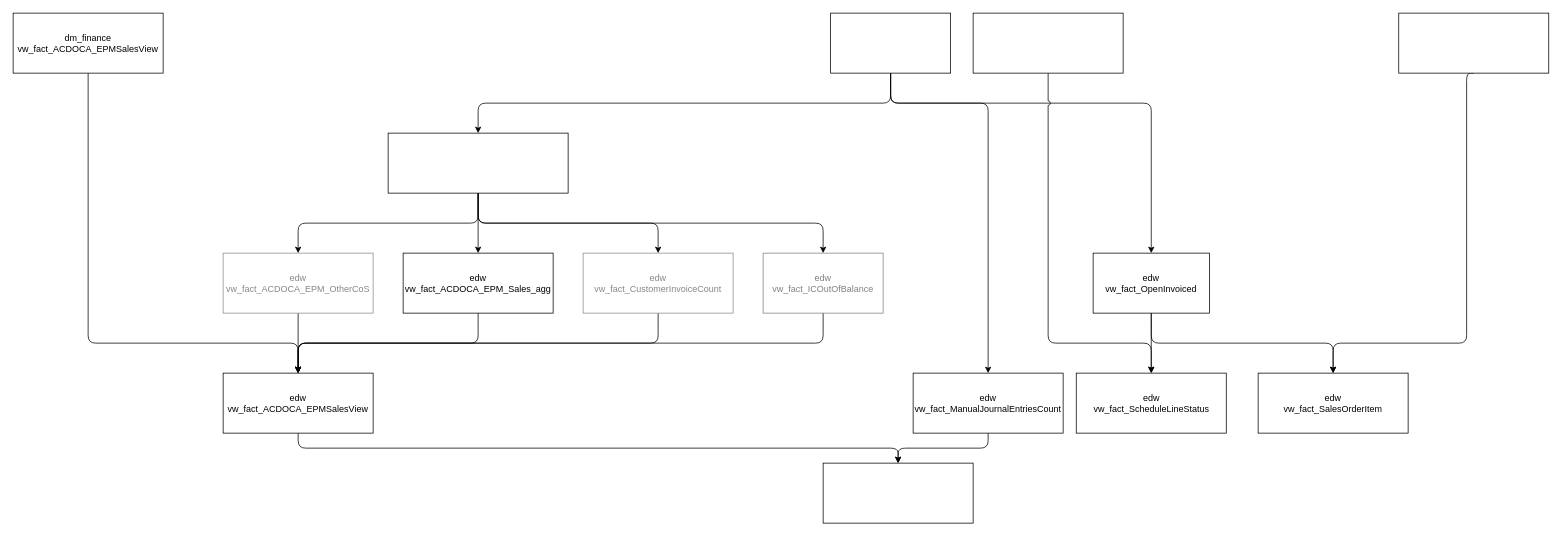
The diagram is 1562 pixels wide and 536 high, and some of its shapes have lost their labels. Here are the shapes that lost their labels. From the top down, the centre of each, then its label:
At (890,42): "dm_finance vw_fact_FinanceKPI".
At (1047,42): "dm_sales vw_fact_ScheduleLineStatus".
At (1473,42): "dm_sales vw_fact_SalesOrderItem".
At (477,162): "edw vw_fact_ACDOCA_EPM_Sales_agg_unpvt".
At (897,492): "edw vw_fact_ACDOCA_EPM_Base".
